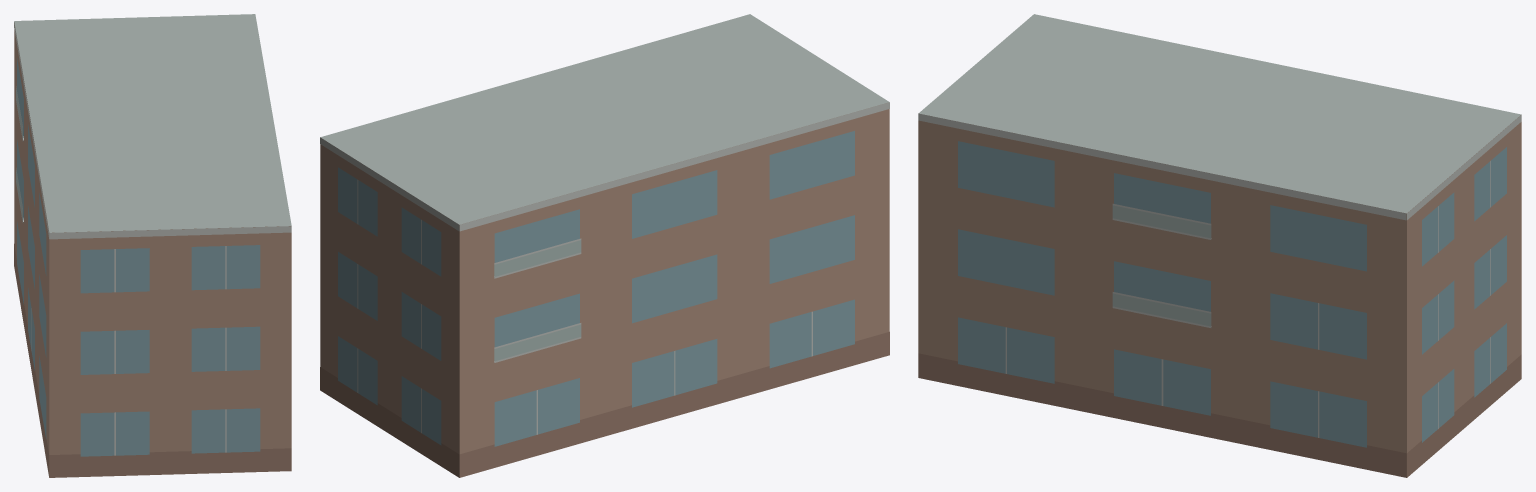
The model's file is survey-upis-32697223.glb.
The picture shows the model from 3 angles, left to right: view 1: azimuth 30°, elevation 25°; view 2: azimuth 150°, elevation 25°; view 3: azimuth 270°, elevation 25°; orthographic projection. The views are drawn at different scales.
Parts seen in each view (by area): view 1: survey-upis-32697223.tmp; view 2: survey-upis-32697223.tmp; view 3: survey-upis-32697223.tmp.
Boxes of the visible parts, x1=… form: survey-upis-32697223.tmp: x1=14, y1=14, x2=291, y2=477; survey-upis-32697223.tmp: x1=320, y1=14, x2=889, y2=477; survey-upis-32697223.tmp: x1=918, y1=14, x2=1521, y2=477.
Size of the model in its own units: 14.81 by 9.15 by 18.93.
